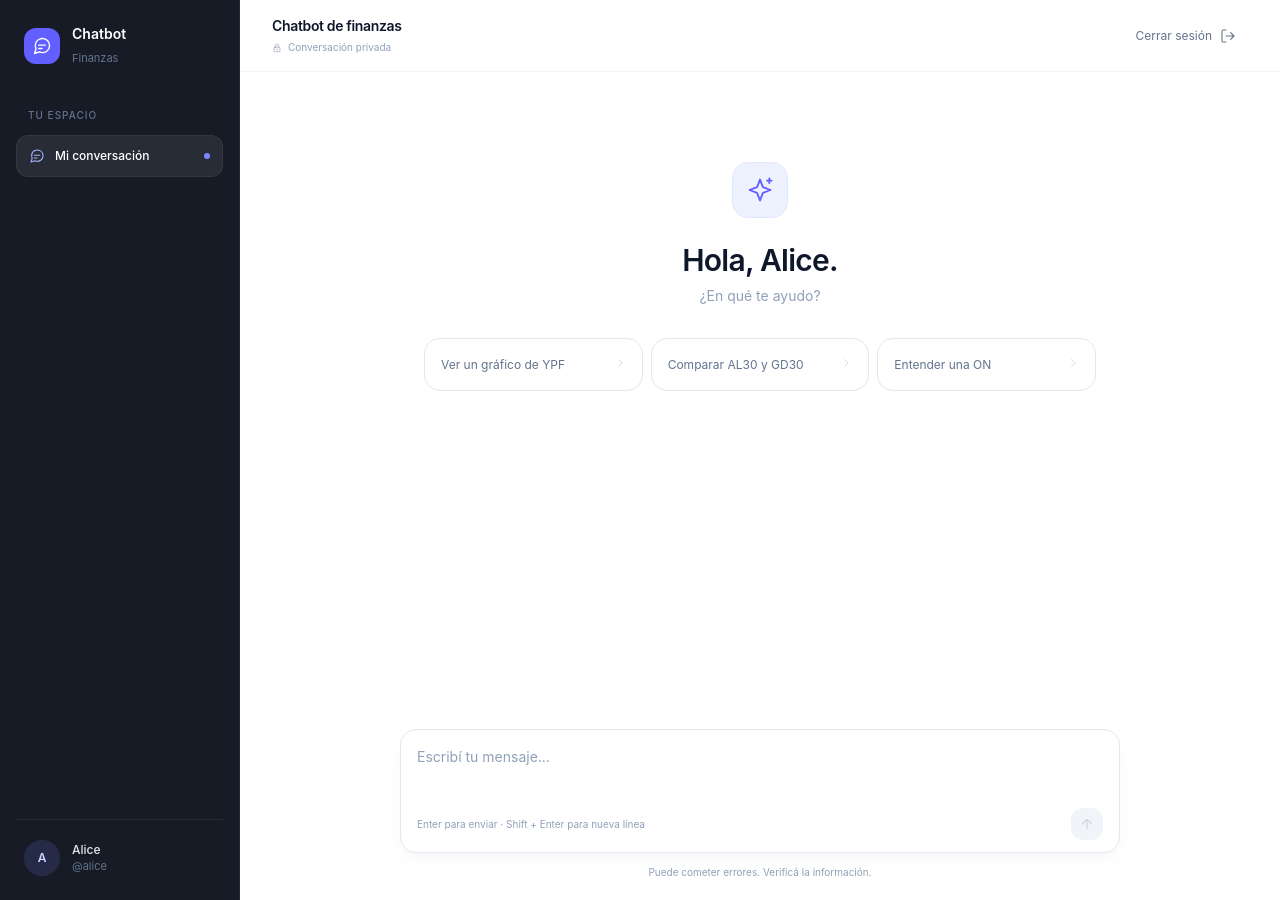
Test: chat lifecycle › marks an unfinished tool interrupted when the stream fails
Type "A finance question" into the text box labelled "tu mensaje" at point(760, 770), box [417,746,1103,794]
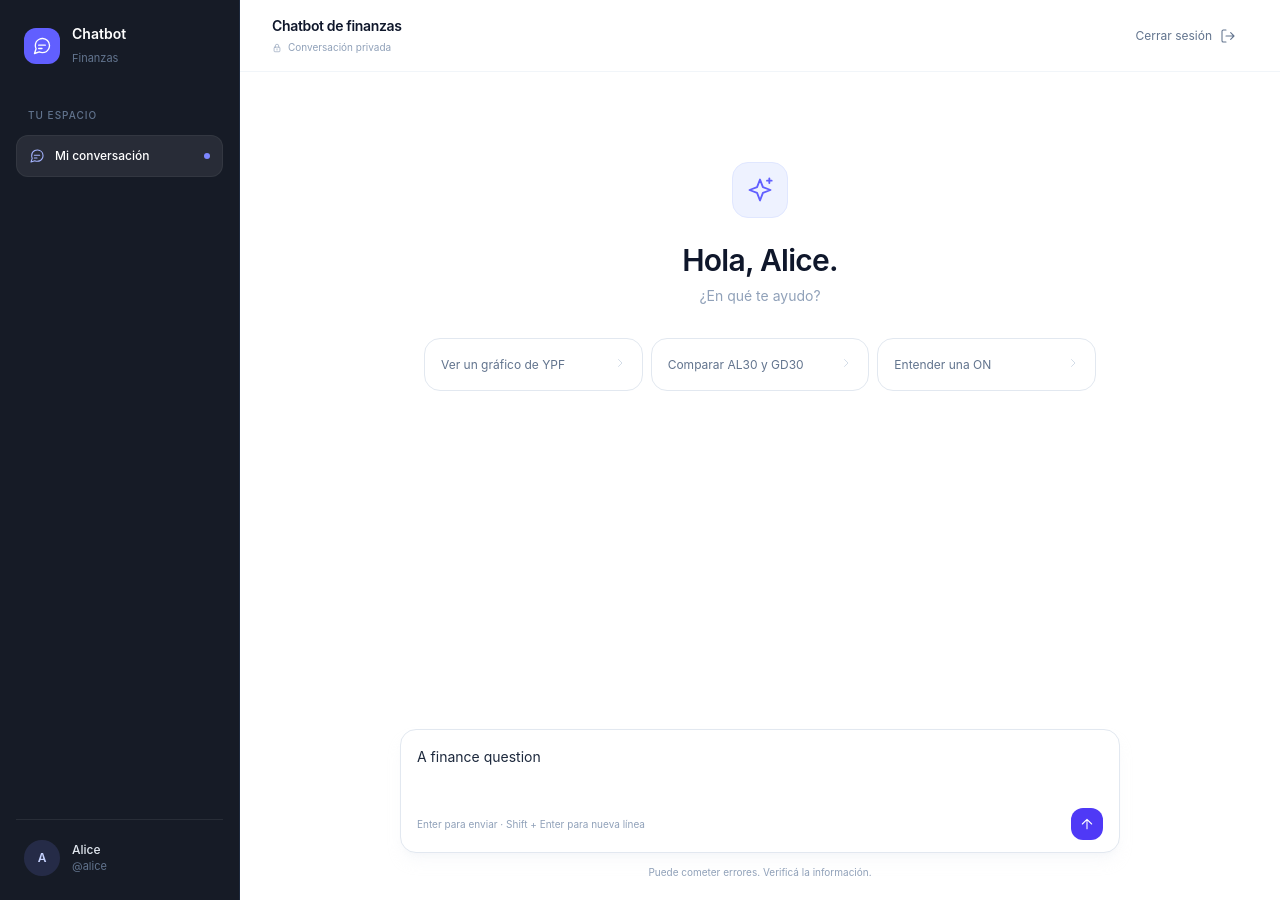
Submit the form named "Tu mensaje", box [400,729,1120,853]
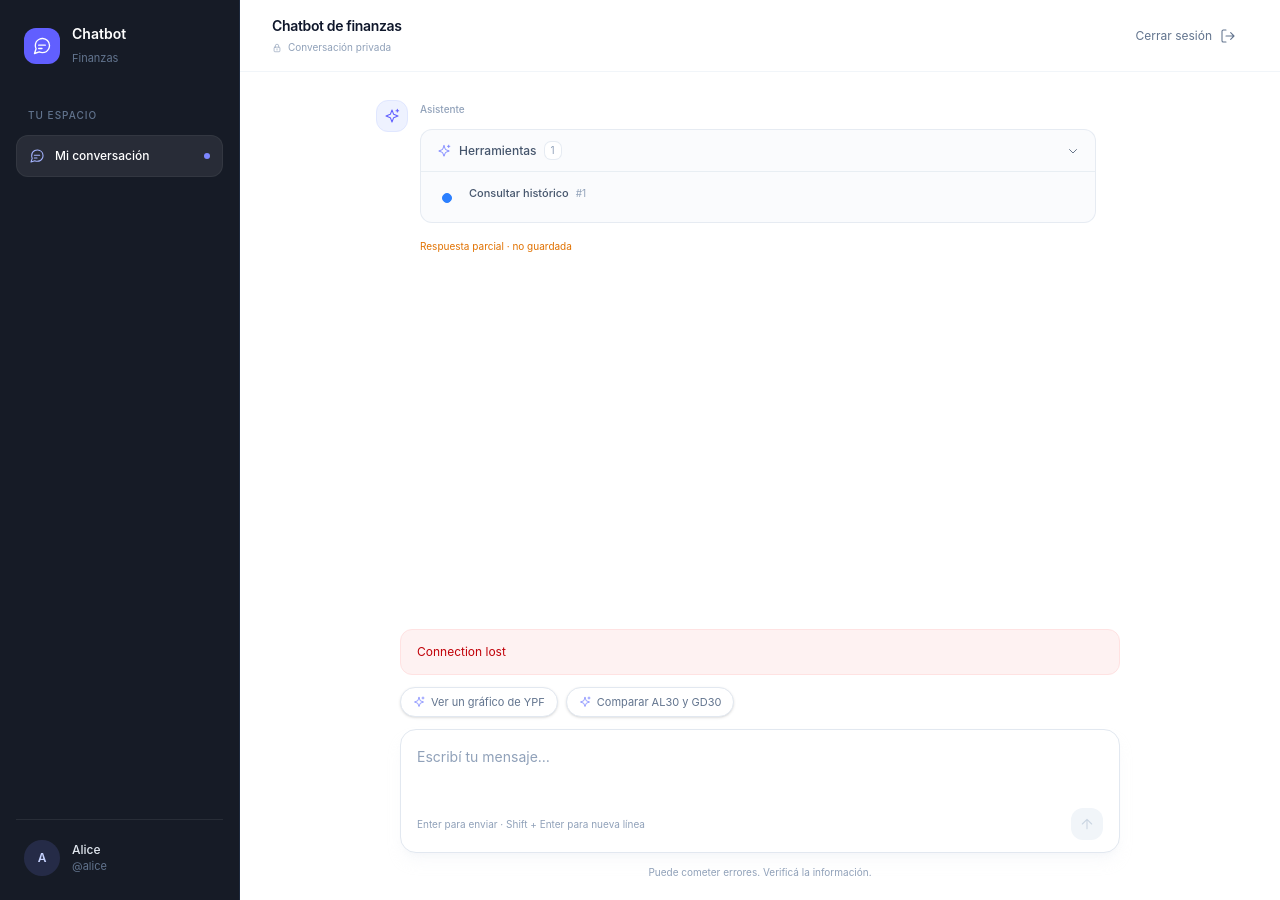
expect the message reads "Connection lost": met, box [417,644,506,659]
expect the text "Consultar histórico" is shown: met, box [469,186,569,200]
expect the text "Respuesta parcial · no guardada" is shown: met, box [420,240,572,252]
